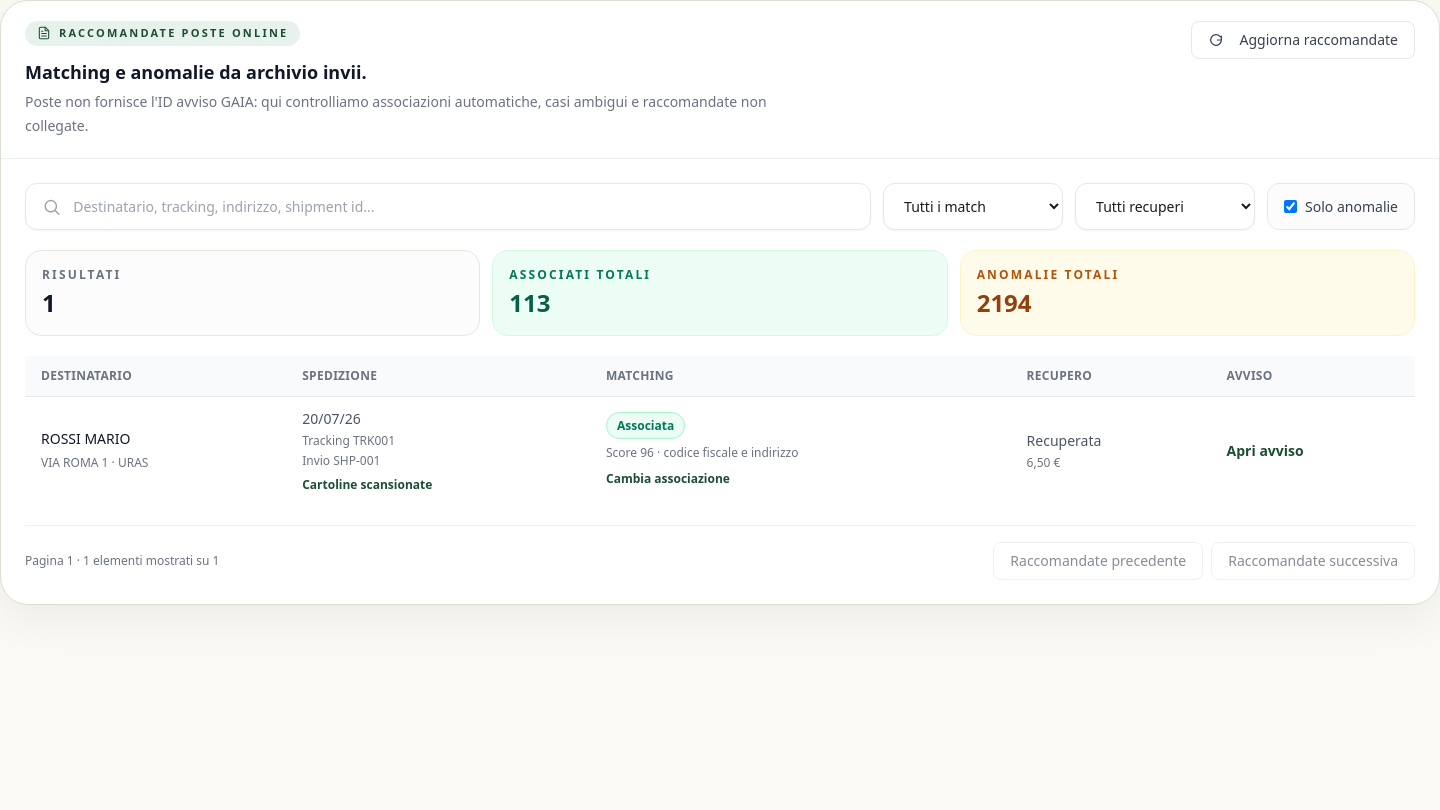
Test: RegisteredMailsConsole › removes an existing association
Click the button "Cambia associazione" at (668, 479), box top-left (606, 471), bottom-right (730, 487)
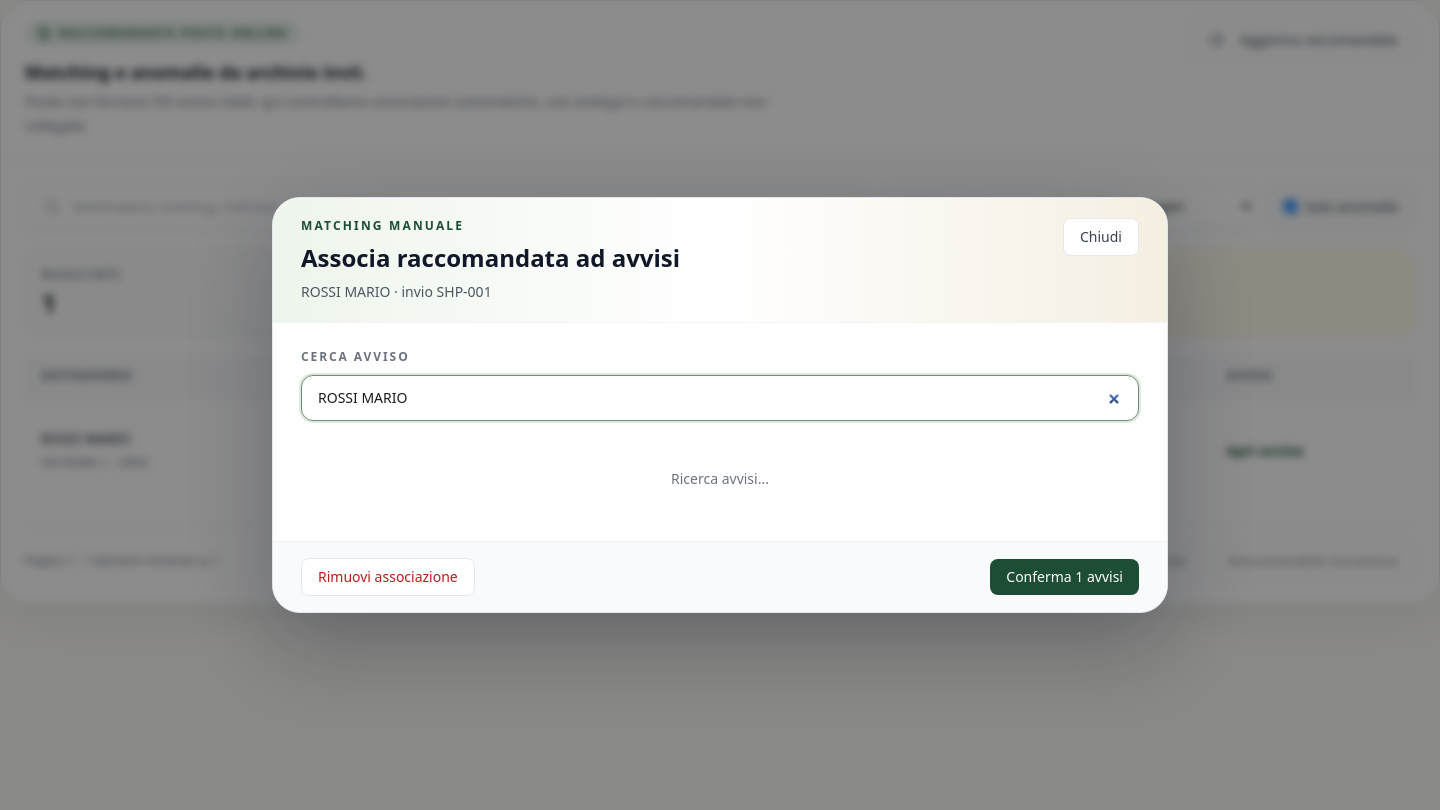
Click the button "Chiudi" at (1101, 237), box top-left (1063, 218), bottom-right (1139, 256)
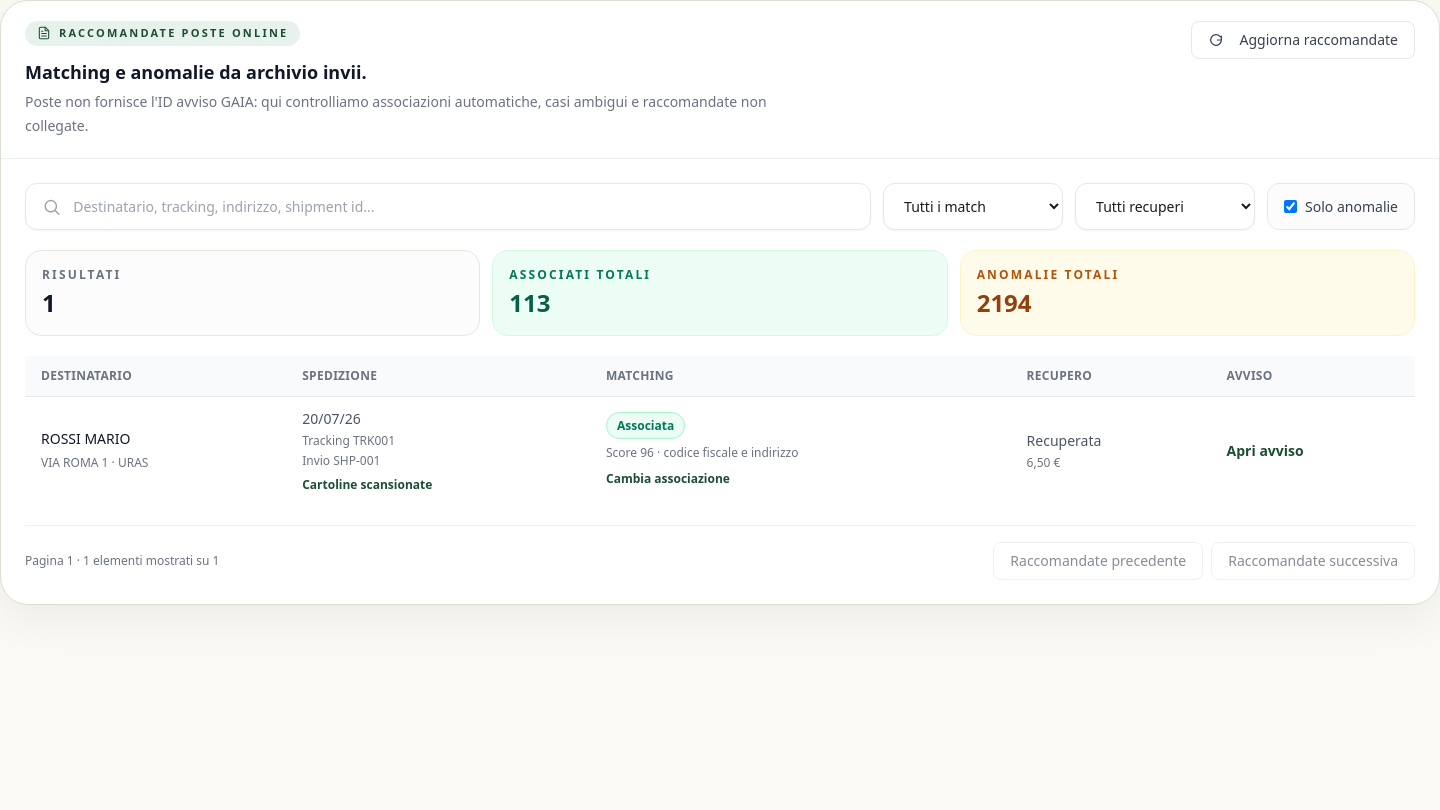
Result: the dialog is gone
Click the button "Cambia associazione" at (668, 479), box top-left (606, 471), bottom-right (730, 487)
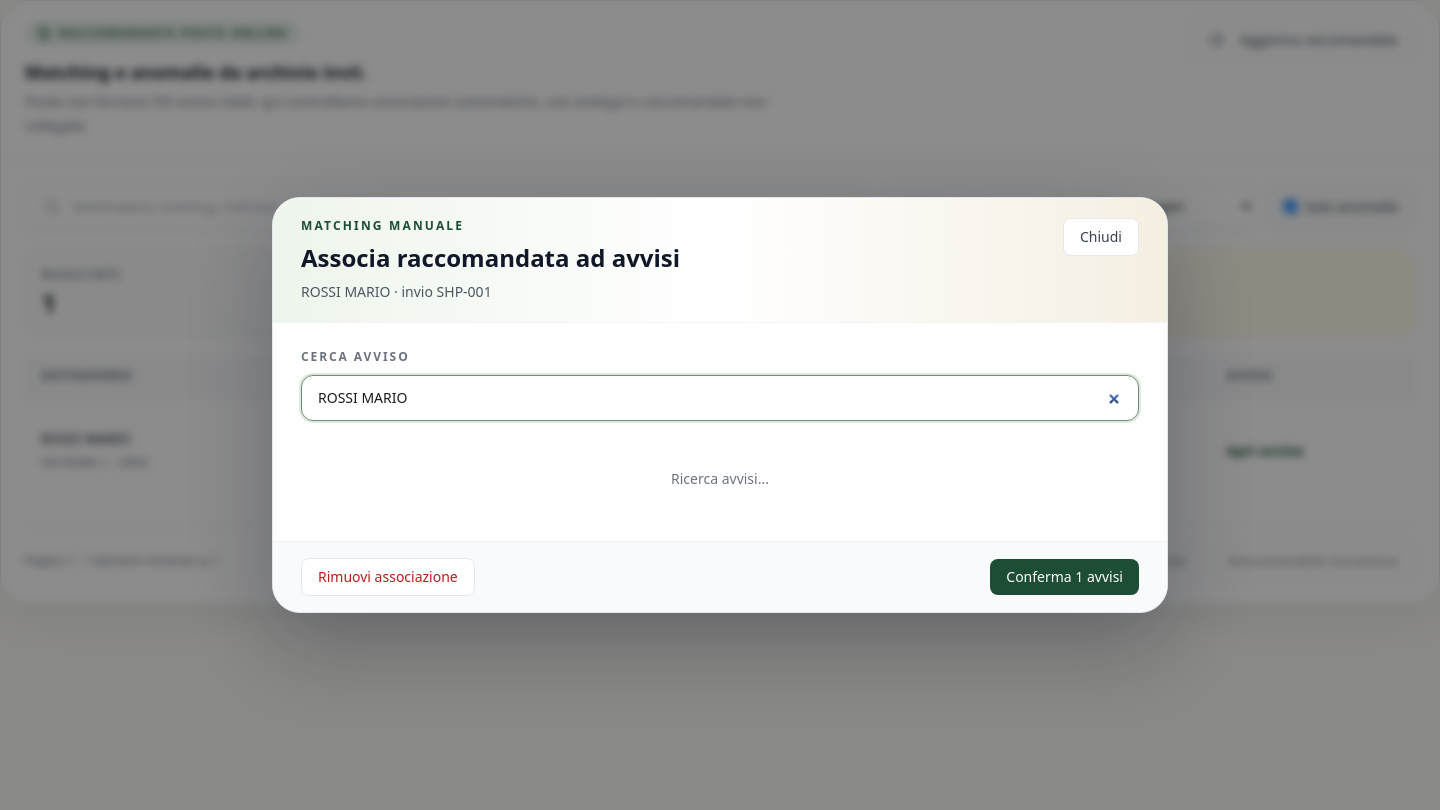
Click the button "Rimuovi associazione" at (388, 577), box top-left (301, 558), bottom-right (475, 596)
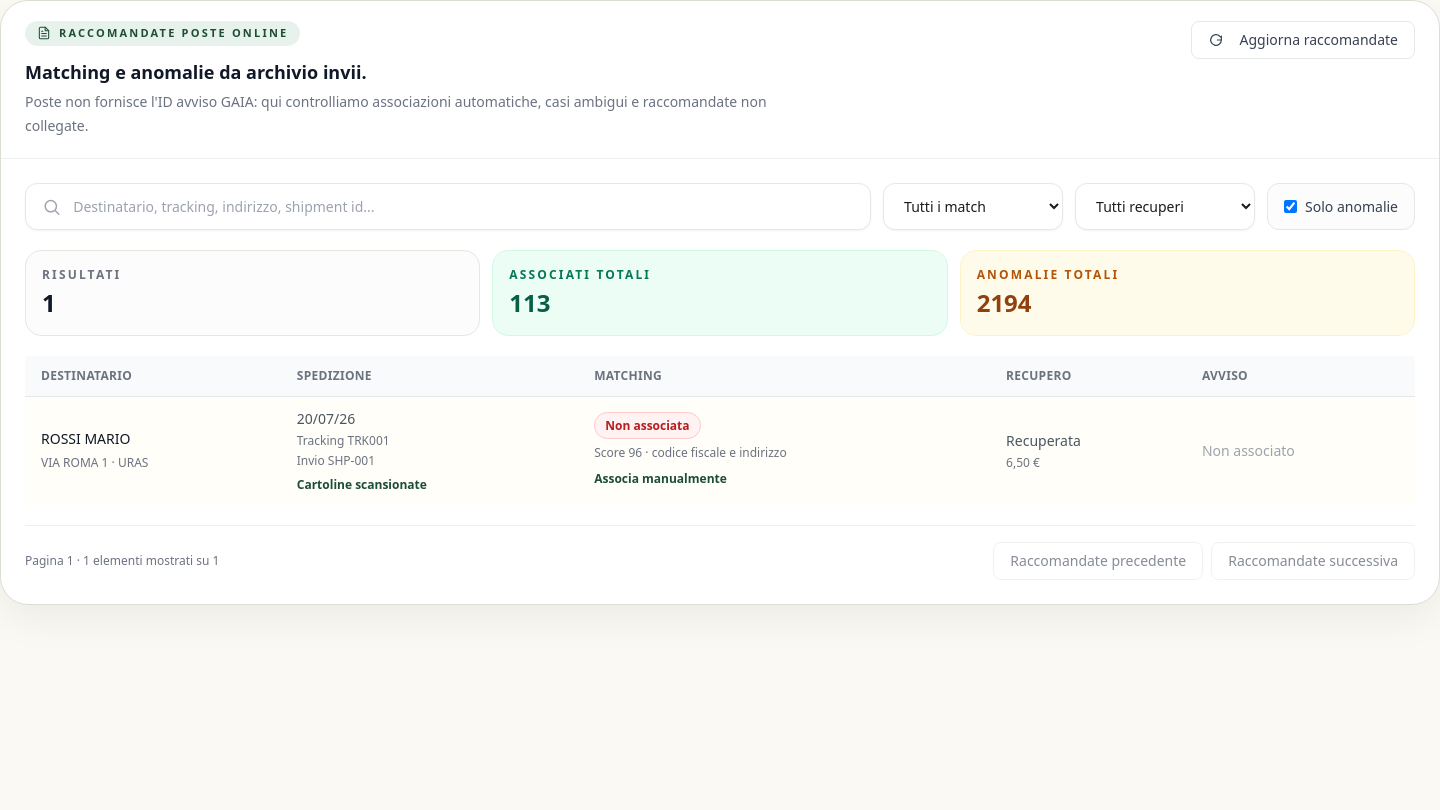
Result: the button "Associa manualmente" is shown at top-left (594, 471), bottom-right (727, 487)
